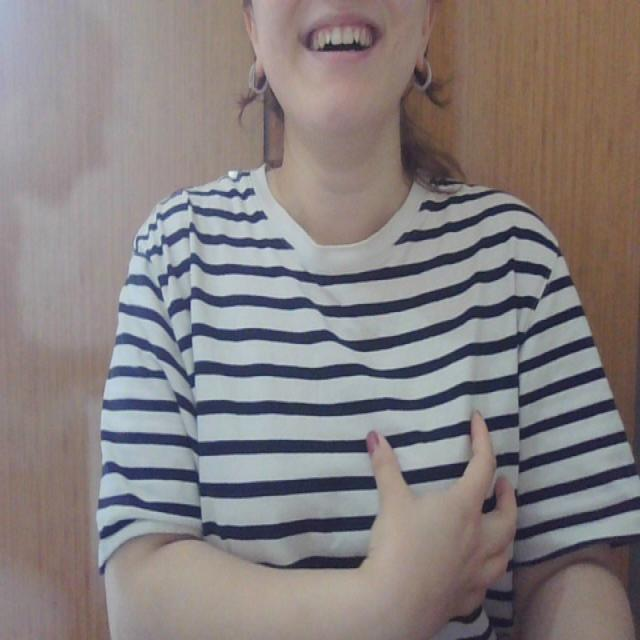Anne: (198, 390, 538, 628)
